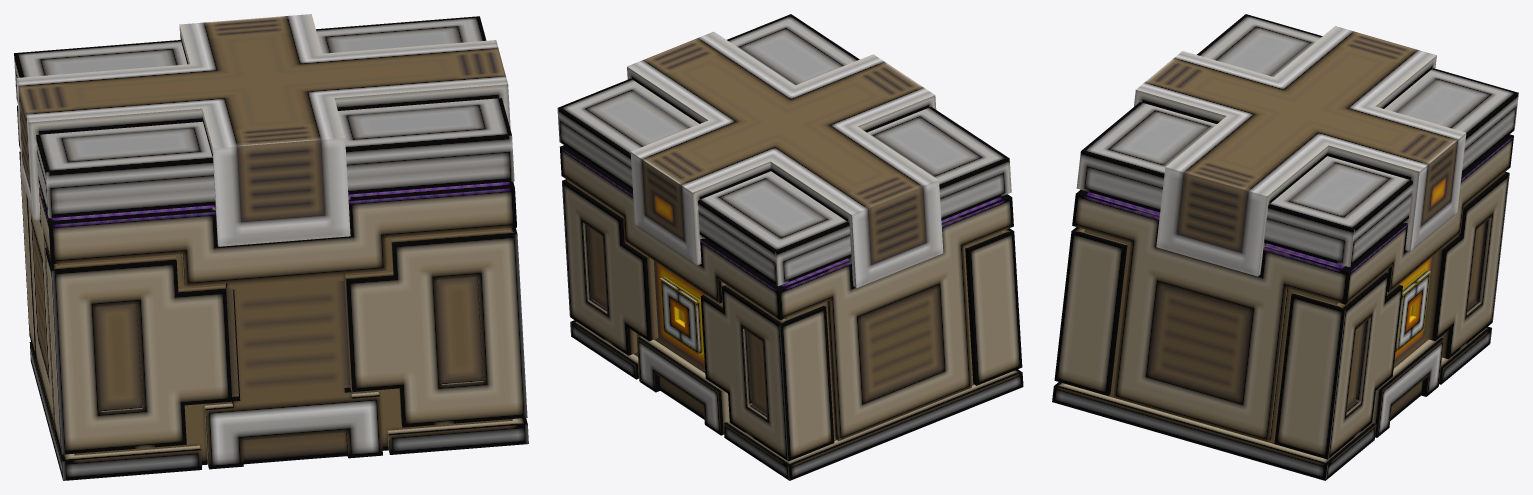
File: event_chest_1 #150820.fbx
3 renders of one model, left to right at view 1: azimuth 30°, elevation 25°; view 2: azimuth 150°, elevation 25°; view 3: azimuth 270°, elevation 25°, orthographic. The views are drawn at different scales.
Visible parts, largest first — view 1: event_chest_1, lid_event_chest_1_mesh; view 2: event_chest_1, lid_event_chest_1_mesh; view 3: event_chest_1, lid_event_chest_1_mesh.
Boxes of the visible parts, left/top/right/bottom form: event_chest_1: left=17, top=105, right=528, bottom=480; lid_event_chest_1_mesh: left=14, top=14, right=514, bottom=246; event_chest_1: left=560, top=145, right=1023, bottom=480; lid_event_chest_1_mesh: left=557, top=14, right=1011, bottom=287; event_chest_1: left=1052, top=134, right=1513, bottom=480; lid_event_chest_1_mesh: left=1076, top=14, right=1518, bottom=276.
Bounding box in the file's own units: 160 × 108 × 153.
